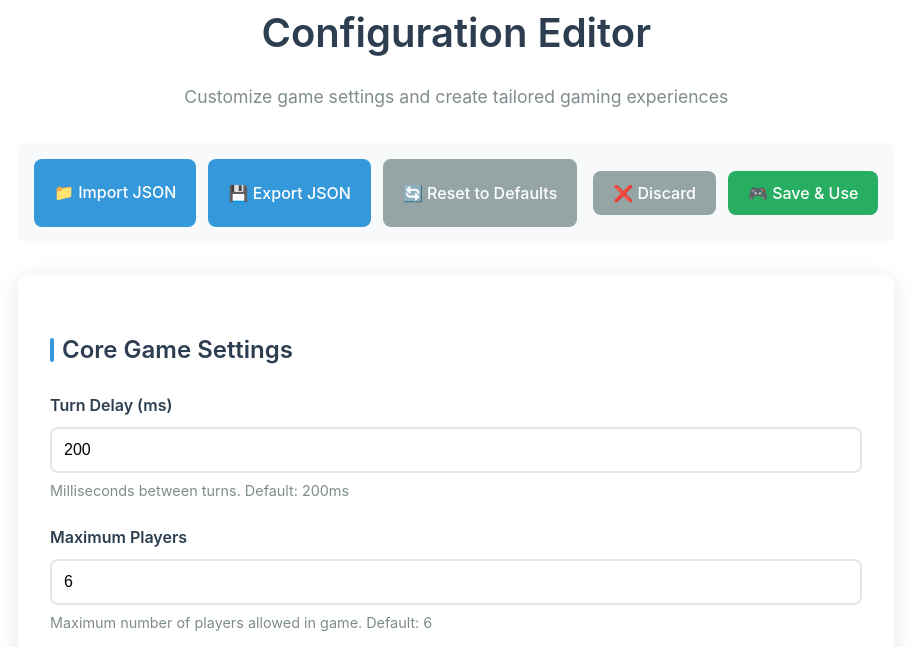
Test case: ConfigEditor › validation › should show error banner when configuration is invalid
// Make configuration invalid by setting invalid max players
Replace the text in the number field labelled "Maximum Players" with "0": x=456, y=582 [50,559,862,605]
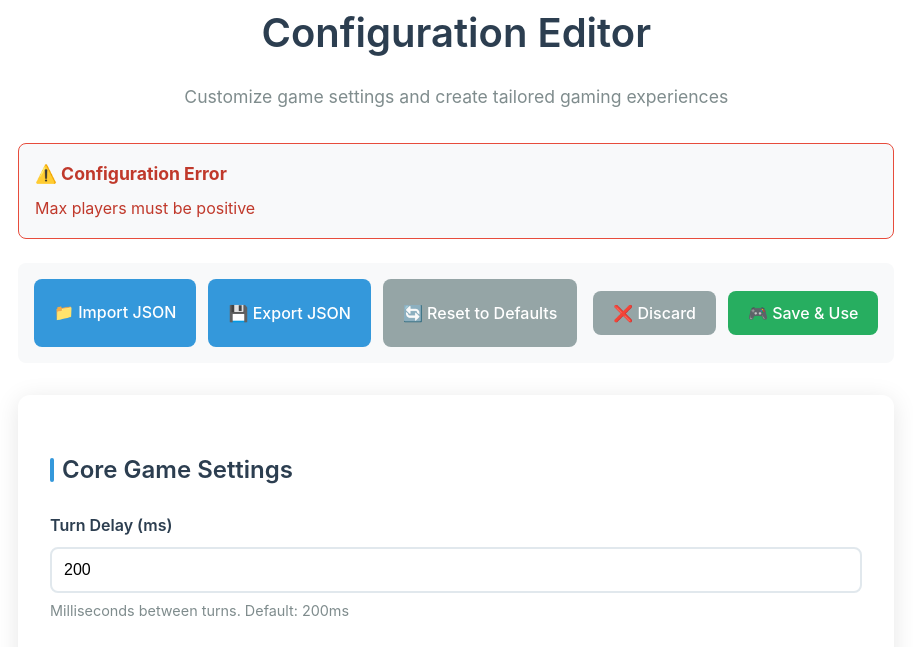
Check: the heading "⚠️ Configuration Error" is shown, box [35,163,227,184]
Check: the text "Max players must be positive" is shown, box [35,198,255,218]
